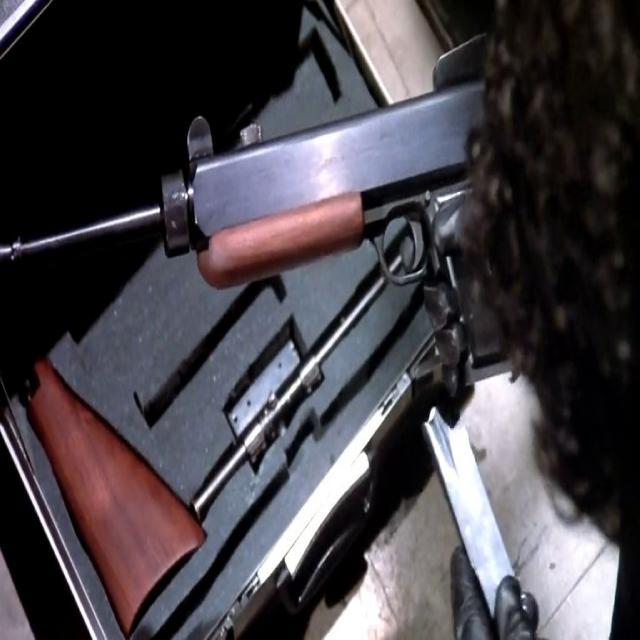gun-knife-thesis - v11 Yolov5 augmented: (0, 48, 528, 436)
